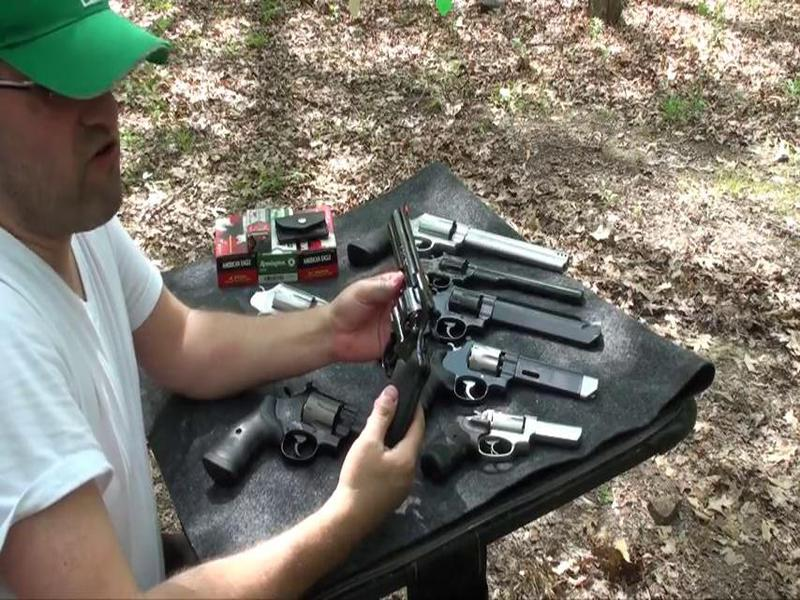Revolver: (347, 186, 448, 442)
